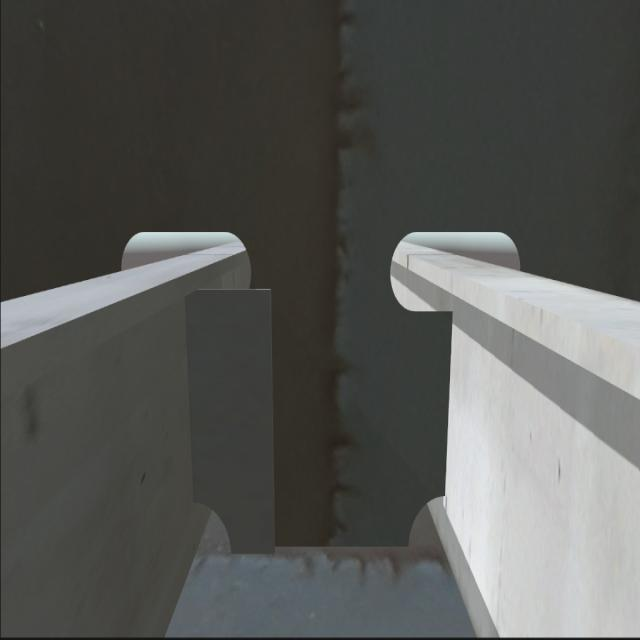fillet_hole: (402, 496, 446, 548), (191, 502, 230, 555)
fillet_yong_jeop_jang: (225, 540, 414, 562)
longi_yong_jeop_jang: (180, 284, 202, 506), (440, 303, 456, 502)
plate_CP01: (186, 287, 278, 556)
